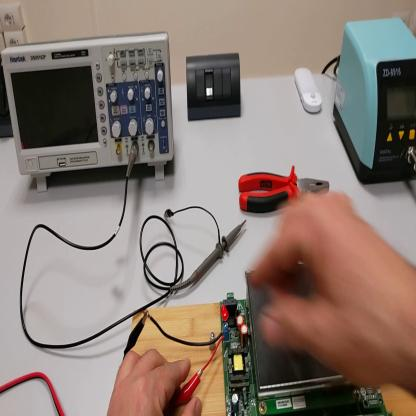hand: (254, 193, 411, 390), (108, 345, 205, 415)
low voltage board: (141, 267, 393, 414)
oscilloscope: (2, 31, 176, 191)
oscilloscope probe tip: (173, 219, 246, 291)
pliers: (237, 160, 331, 216)
socket: (2, 67, 15, 141)
welder station: (334, 12, 416, 185)
